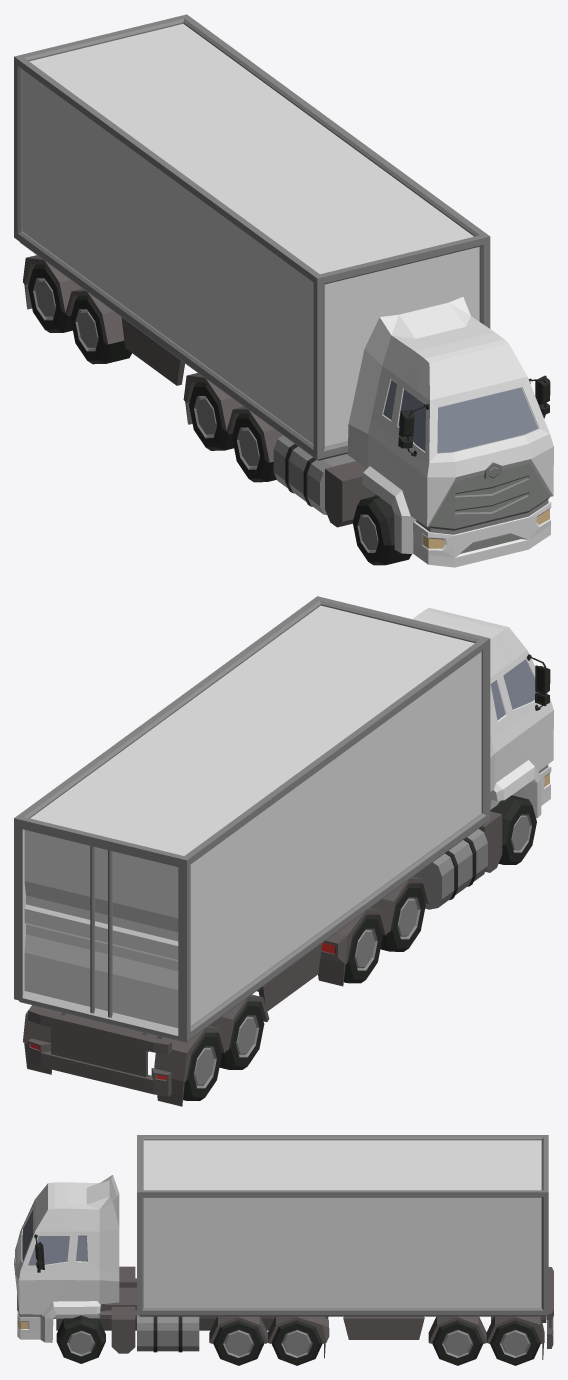
The model's file is cargo-truck.glb.
The picture shows the model from 3 angles, top to bottom: view 1: azimuth 30°, elevation 25°; view 2: azimuth 150°, elevation 25°; view 3: azimuth 270°, elevation 25°; orthographic projection. The views are drawn at different scales.
Parts seen in each view (by area): view 1: Cargo, Truck, CargoTires01; view 2: Cargo, CargoTires01, Truck; view 3: Cargo, CargoTires01, Truck.
Part boxes in pixels (<box>): Cargo: <box>14,14,553,567</box>; Truck: <box>383,380,550,553</box>; CargoTires01: <box>28,264,550,565</box>; Cargo: <box>14,596,553,1106</box>; CargoTires01: <box>183,654,550,1100</box>; Truck: <box>491,659,549,786</box>; Cargo: <box>15,1135,553,1359</box>; CargoTires01: <box>34,1234,540,1365</box>; Truck: <box>14,1210,87,1328</box>.
Size of the model in its own units: 1.68 by 2.42 by 6.68.
Materials: 4 (4 with a texture image).
